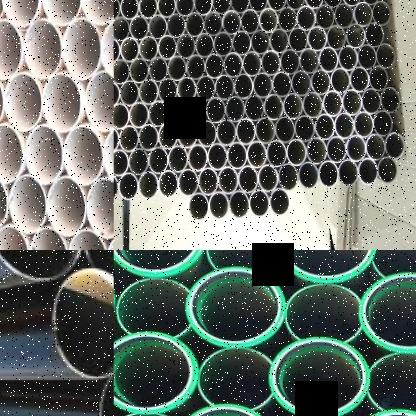pipe: (268, 337, 370, 416), (186, 267, 284, 346), (49, 265, 114, 384), (114, 331, 199, 414), (357, 272, 416, 352), (198, 348, 274, 409), (285, 284, 362, 342), (116, 279, 192, 337), (277, 250, 376, 282), (367, 352, 416, 414), (0, 250, 85, 285), (114, 250, 206, 277), (47, 176, 86, 237), (62, 18, 101, 79), (64, 125, 103, 185), (43, 72, 81, 133), (26, 123, 63, 185), (9, 174, 47, 234), (4, 72, 42, 132), (24, 19, 62, 79), (206, 250, 283, 275), (85, 71, 114, 131), (86, 178, 114, 239), (0, 123, 24, 183), (173, 402, 275, 416), (0, 20, 23, 79), (371, 250, 416, 278), (41, 0, 81, 26), (1, 0, 39, 27), (29, 226, 68, 250), (100, 17, 114, 79), (68, 229, 108, 250), (81, 0, 114, 25), (0, 224, 29, 250), (104, 126, 114, 187), (128, 148, 149, 177), (226, 142, 247, 171), (229, 191, 250, 220), (118, 173, 139, 201), (294, 115, 315, 143), (269, 189, 290, 217), (266, 140, 287, 168), (157, 123, 178, 151), (246, 141, 267, 169), (196, 120, 217, 148), (148, 100, 169, 128), (345, 135, 366, 163), (298, 162, 319, 190), (178, 169, 198, 198), (207, 143, 227, 172), (189, 193, 209, 222), (209, 192, 229, 221), (148, 147, 168, 176), (187, 144, 207, 173), (238, 166, 258, 195), (118, 126, 139, 153), (205, 97, 226, 124), (263, 94, 284, 121), (302, 92, 323, 119), (380, 87, 401, 114), (384, 133, 405, 160), (318, 161, 339, 188), (306, 138, 327, 165), (314, 114, 335, 141), (334, 113, 355, 140), (138, 172, 158, 200), (358, 158, 378, 186), (258, 165, 278, 193), (158, 171, 178, 199), (278, 164, 298, 192), (218, 167, 238, 195), (198, 168, 218, 196), (216, 119, 236, 147), (168, 146, 188, 174), (275, 116, 295, 144), (365, 134, 385, 162), (249, 190, 269, 218), (286, 139, 306, 167), (255, 117, 275, 145), (326, 136, 346, 164), (290, 71, 311, 97), (322, 91, 343, 117), (318, 47, 339, 73), (341, 90, 362, 116), (368, 66, 389, 92), (138, 79, 158, 106), (138, 125, 158, 152), (378, 157, 398, 184), (299, 48, 319, 75), (283, 93, 303, 120), (177, 122, 197, 149), (338, 45, 358, 72), (338, 160, 358, 187), (357, 44, 377, 71), (310, 69, 330, 96), (330, 68, 350, 95), (280, 49, 300, 76), (244, 95, 264, 122), (186, 98, 206, 125), (129, 102, 148, 130), (168, 99, 187, 127), (373, 110, 392, 138), (236, 118, 255, 146), (354, 111, 373, 139), (166, 13, 186, 39), (307, 26, 327, 52), (148, 57, 168, 83), (119, 81, 139, 107), (129, 58, 149, 84), (349, 67, 369, 93), (272, 72, 292, 98), (138, 36, 158, 62), (361, 89, 381, 115), (277, 7, 297, 33), (167, 55, 186, 82), (225, 96, 244, 123), (186, 54, 205, 81), (234, 73, 253, 100), (261, 50, 280, 77), (157, 35, 177, 60), (129, 16, 149, 41), (315, 5, 335, 30), (296, 6, 316, 31), (288, 28, 308, 53), (345, 24, 365, 49), (334, 4, 354, 29), (376, 44, 396, 69), (326, 26, 346, 51), (120, 37, 139, 63), (158, 78, 177, 104), (215, 75, 234, 101), (185, 12, 204, 38), (259, 8, 278, 34), (177, 77, 196, 103), (222, 10, 241, 36), (203, 11, 222, 37), (353, 2, 372, 28), (253, 73, 272, 99), (148, 15, 167, 40), (195, 33, 214, 58), (176, 34, 195, 59), (232, 31, 251, 56), (196, 76, 215, 101), (251, 30, 270, 55), (269, 29, 288, 54), (241, 9, 259, 35), (372, 1, 390, 27), (214, 32, 232, 57), (205, 54, 223, 79), (243, 52, 261, 77), (224, 53, 242, 78), (365, 23, 383, 48), (0, 173, 7, 232), (114, 58, 129, 85), (114, 103, 129, 130), (119, 0, 139, 20), (114, 149, 128, 177), (114, 16, 129, 42), (156, 0, 175, 18), (138, 0, 156, 19), (192, 0, 212, 16), (175, 0, 193, 17), (211, 0, 230, 15), (229, 0, 249, 13), (247, 0, 267, 12), (0, 71, 4, 129), (266, 0, 285, 11), (285, 0, 304, 10), (304, 0, 323, 9), (323, 0, 342, 8), (114, 38, 120, 63), (114, 126, 119, 154), (341, 0, 361, 7), (114, 82, 119, 109), (114, 0, 120, 20), (114, 174, 118, 202), (361, 0, 379, 5)
